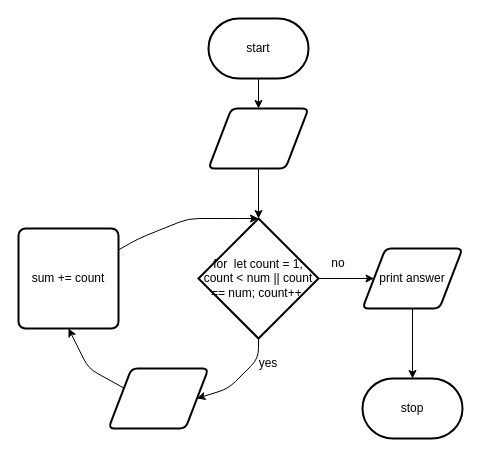
The diagram is 480 pixels wide and 456 high, and some of its shapes have lost their labels. Each missing label, with the centre of its shape:
"count" belongs at (158,398).
"enter a number" belongs at (258,138).
